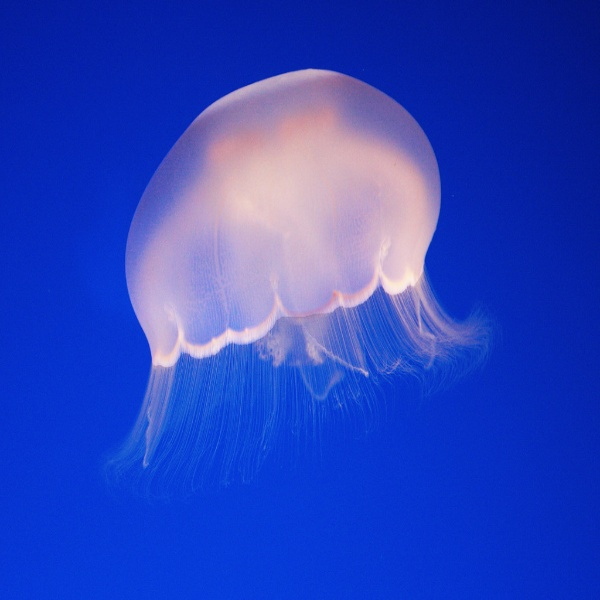Jellyfish: (113, 69, 492, 502)
